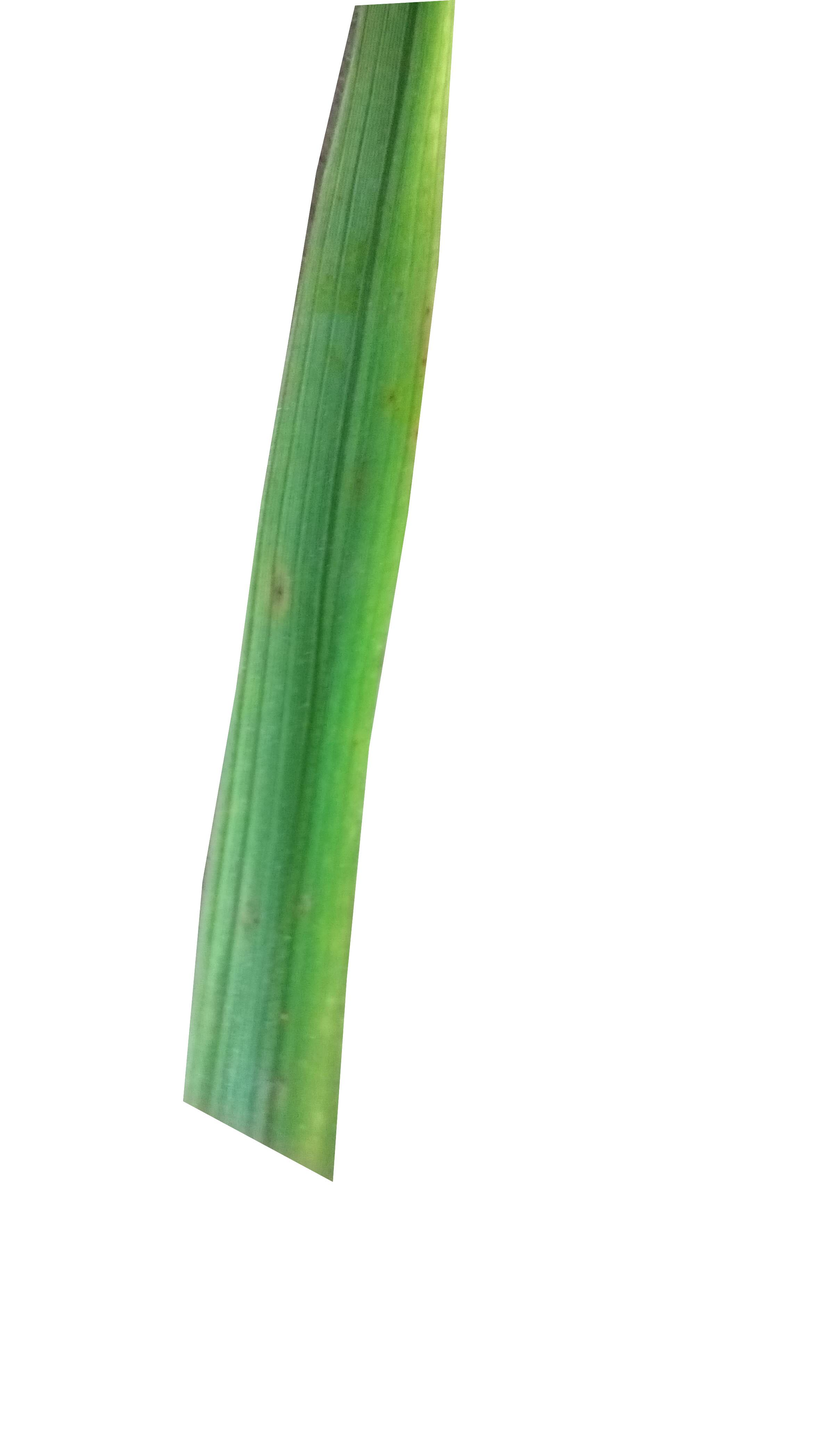Brown spot: (261, 574, 309, 629)
Tungro: (306, 3, 452, 441)
